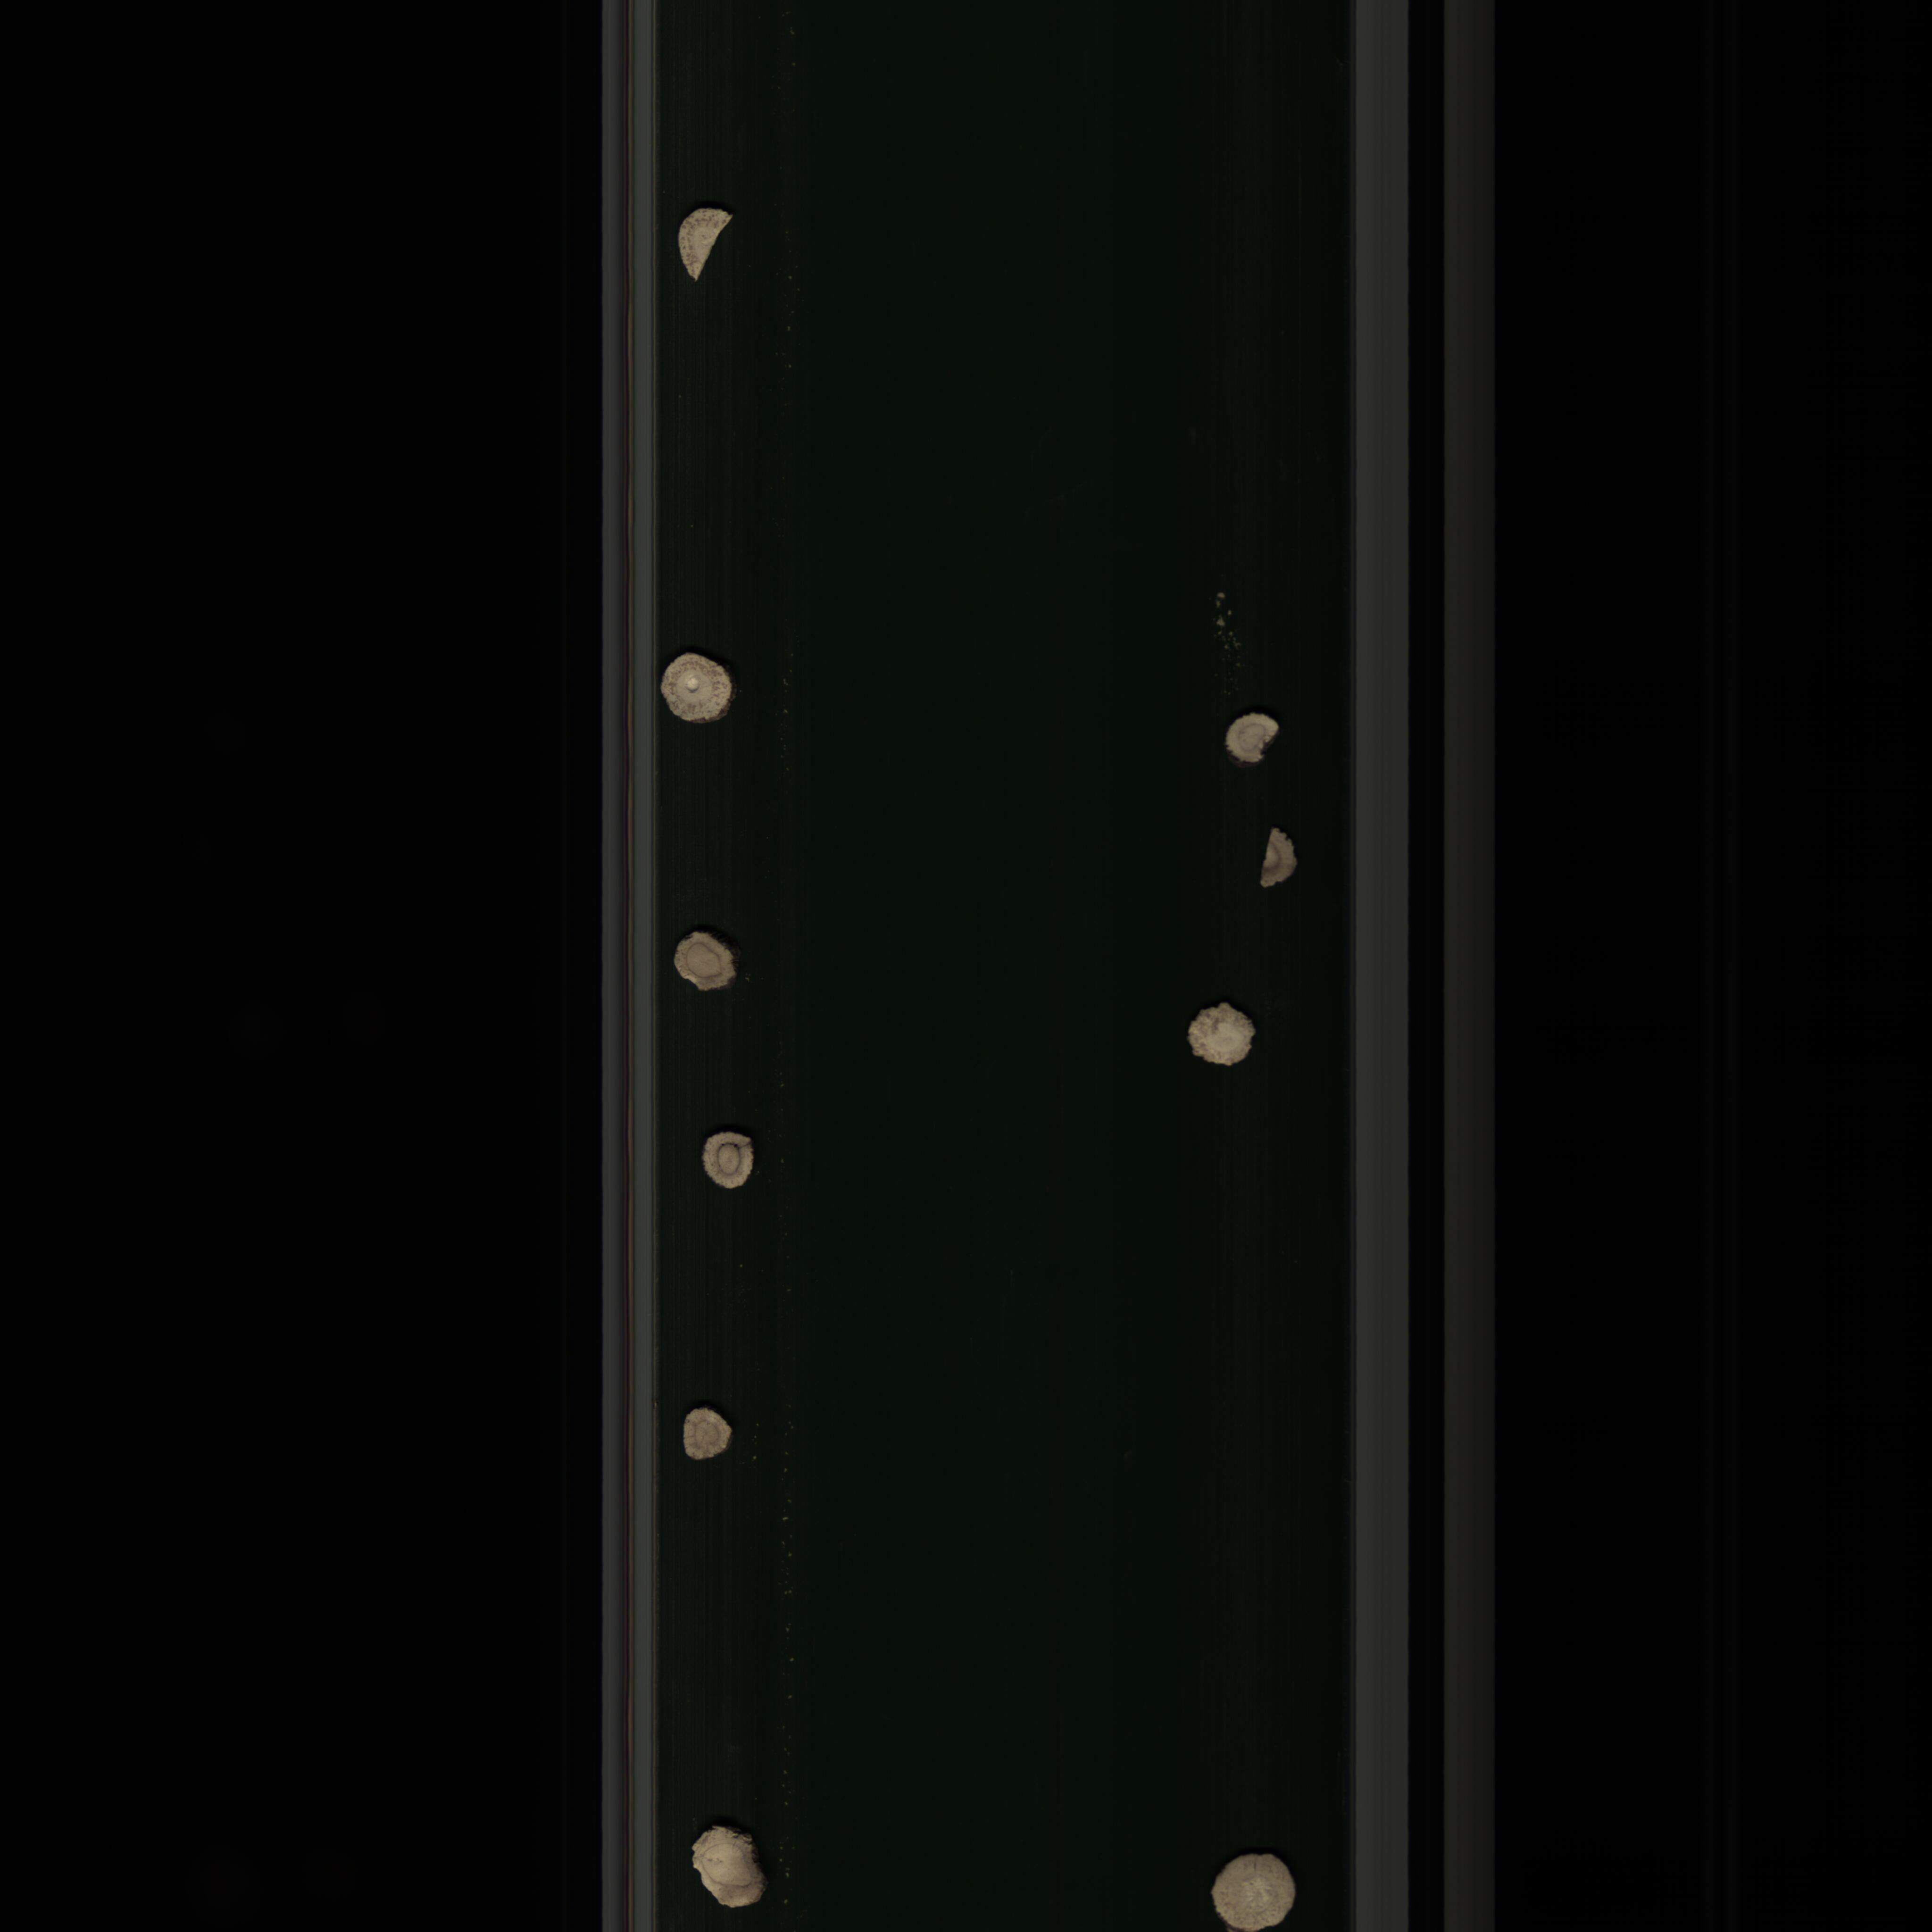debris: (683, 1829, 780, 1921), (665, 198, 752, 301), (1221, 709, 1286, 768)
moldy: (697, 1127, 766, 1201), (1253, 812, 1306, 893)
